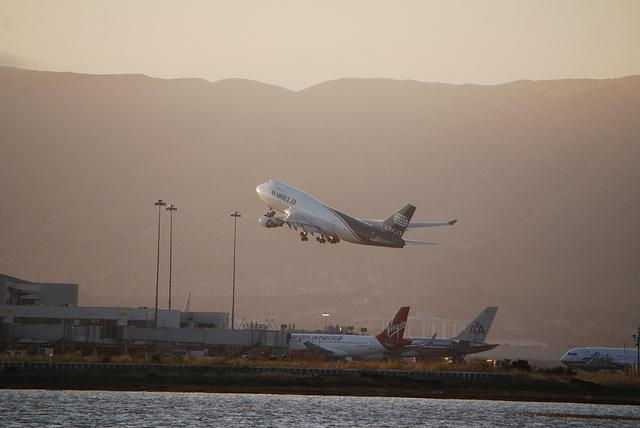airplane: (249, 171, 461, 258), (274, 306, 415, 360), (398, 303, 507, 359), (559, 334, 640, 373)
